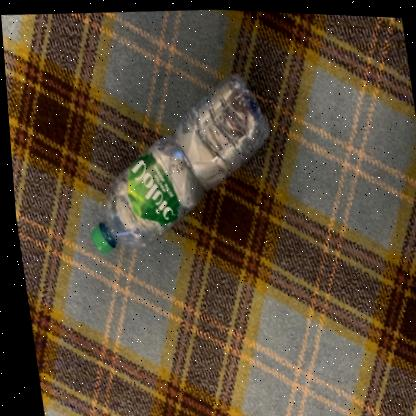Plastic: (88, 71, 268, 252)
